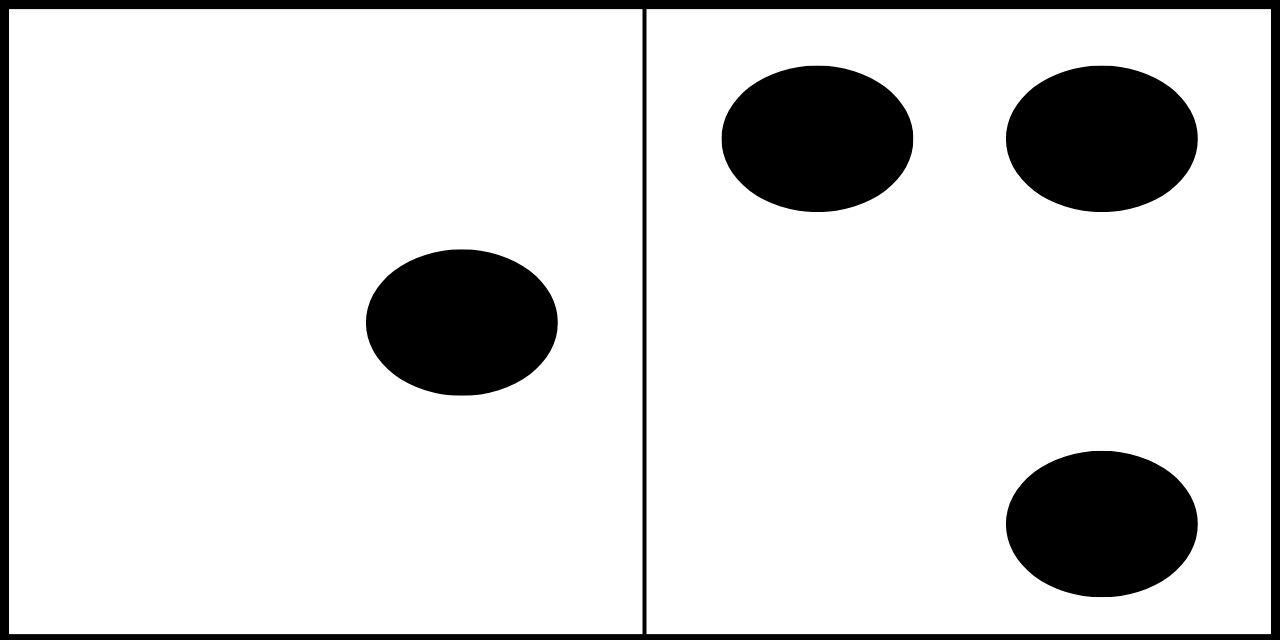dot_5: (95, 65, 558, 596)
masama: (719, 66, 1199, 598)
